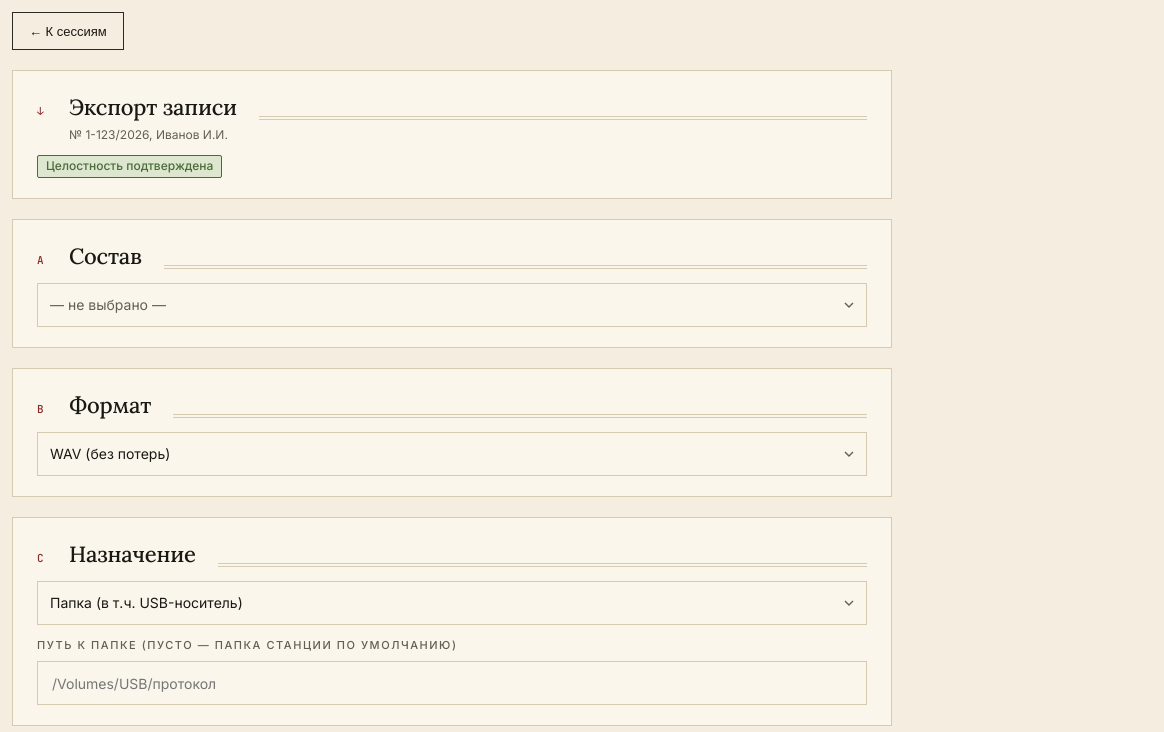
Test: ExportScreen › одноканальная v1-сессия (легаси-роль "single") показывает в составе «Запись», а не внутренний код
Click the dropdown named "Состав пакета" at (108, 305), box [37, 283, 867, 327]
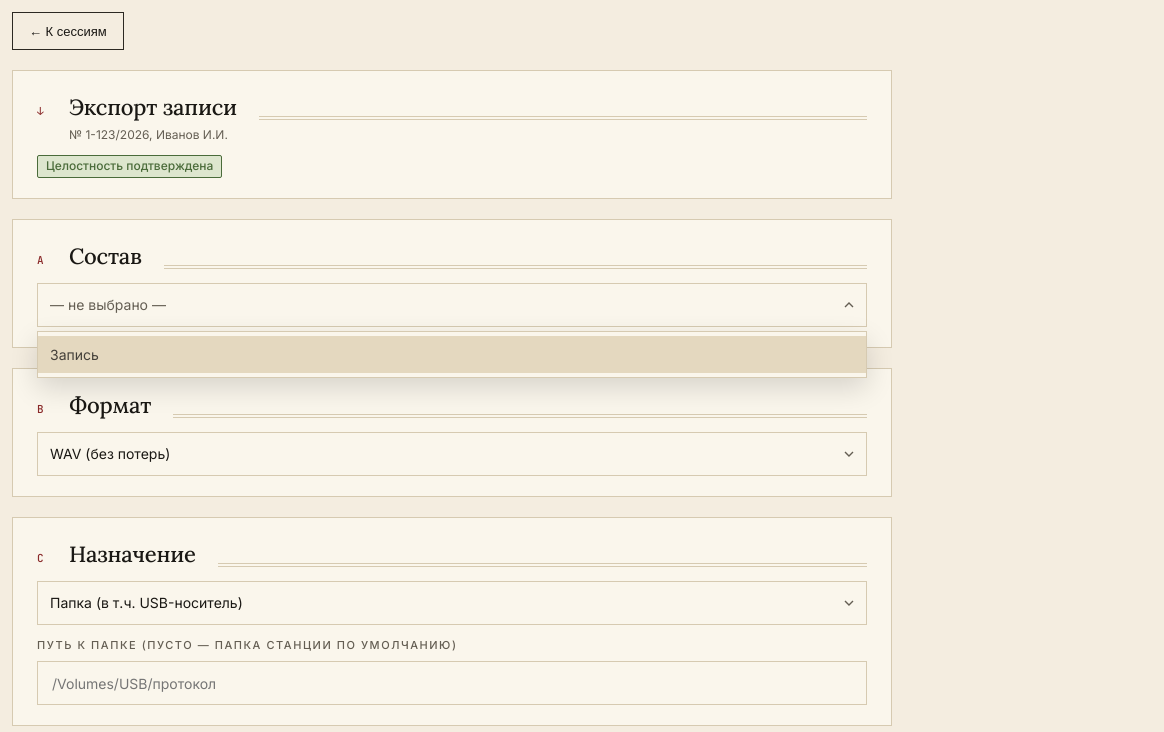
Result: the text "Запись" is shown at [50, 346, 99, 363]
